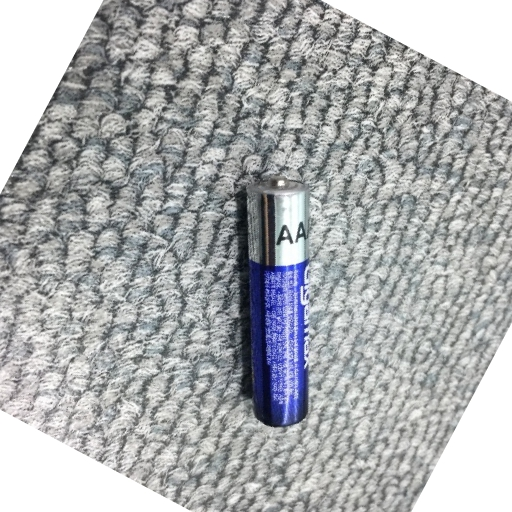Battery_0: (226, 161, 336, 437)
